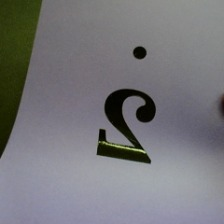violet2: (91, 41, 168, 167)
